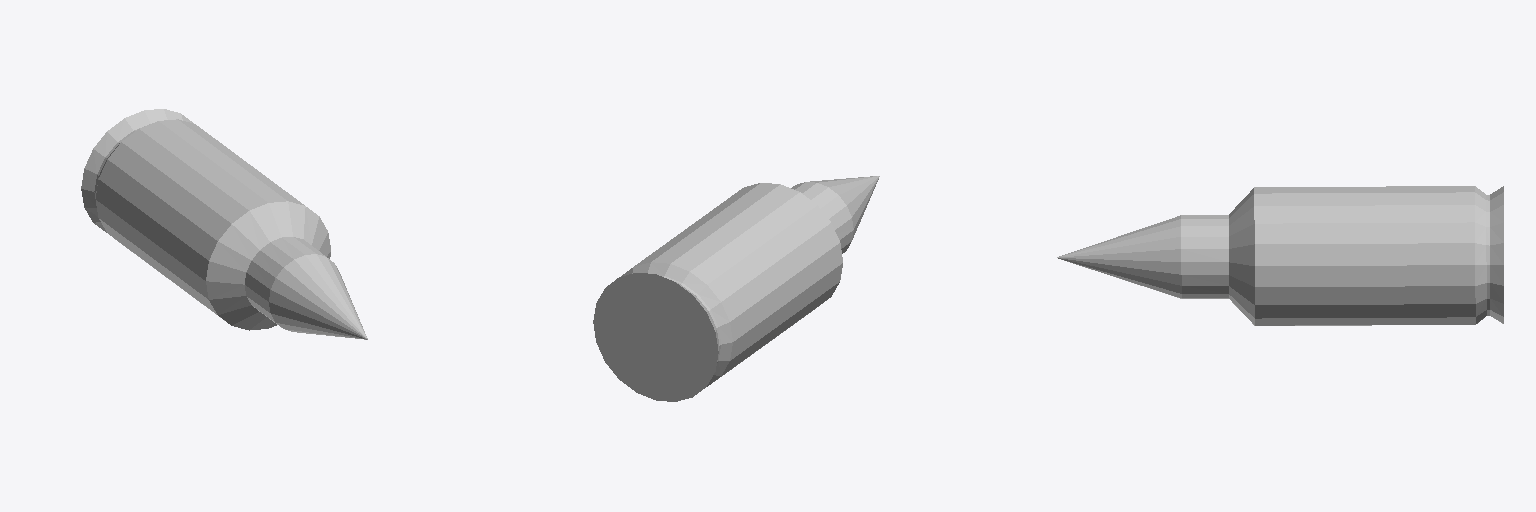
File: bullet.obj
3 views of the same model, side by side, from view 1: azimuth 30°, elevation 25°; view 2: azimuth 150°, elevation 25°; view 3: azimuth 270°, elevation 25° (orthographic).
Parts seen in each view (by area): view 1: pCylinder1; view 2: pCylinder1; view 3: pCylinder1.
Boxes of the visible parts, x1=… form: pCylinder1: x1=81, y1=109, x2=367, y2=339; pCylinder1: x1=593, y1=176, x2=879, y2=401; pCylinder1: x1=1057, y1=186, x2=1503, y2=325.
Bounding box in the file's own units: 1.72 × 1.67 × 5.32.